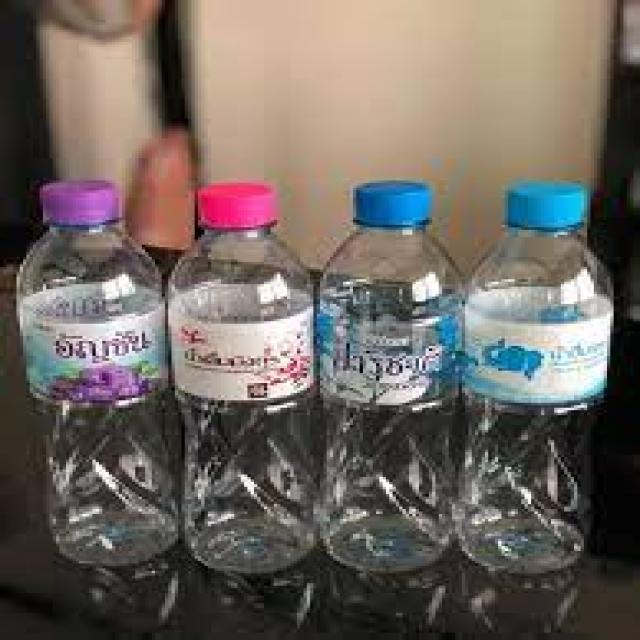bottle: (15, 177, 182, 568), (452, 181, 614, 574), (165, 181, 322, 577), (321, 178, 466, 575)
